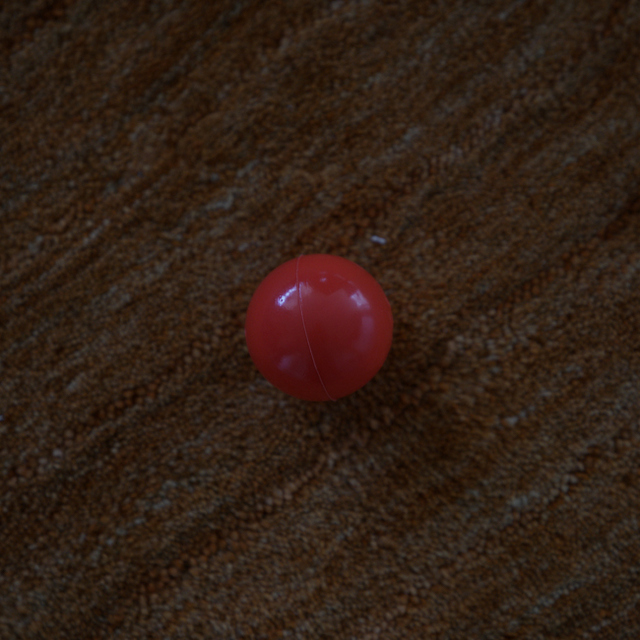Ball: (243, 253, 393, 402)
